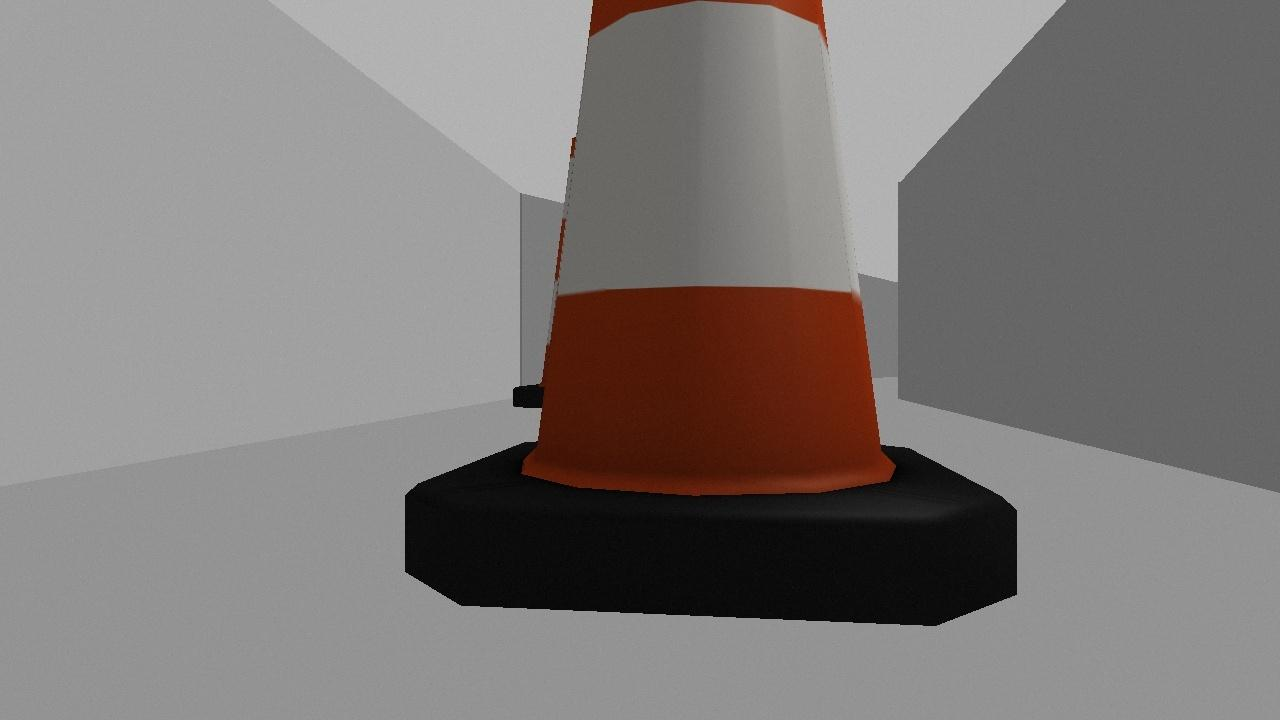cone_barrel: (359, 0, 1056, 644)
